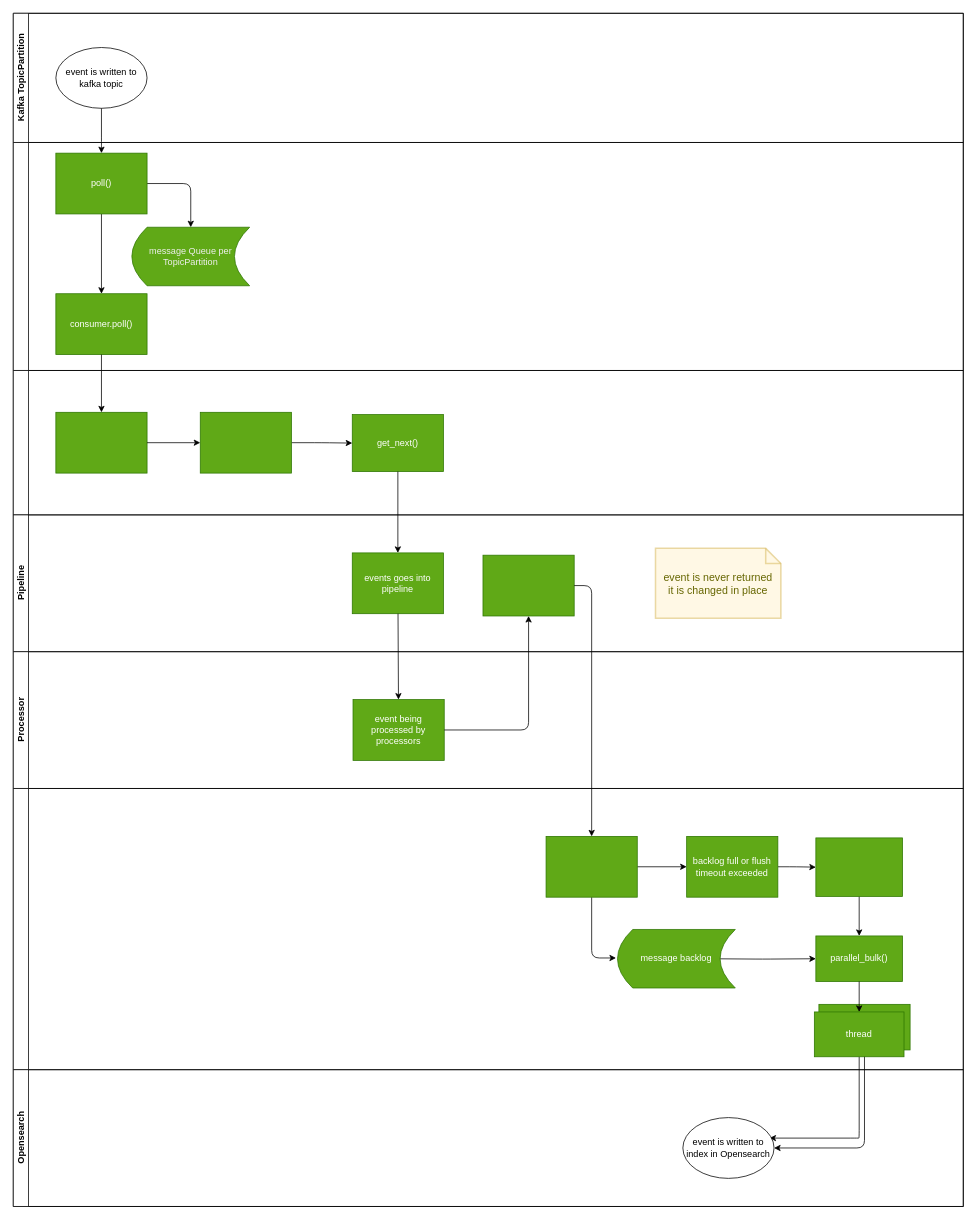
Image size: 977x1220. Some labels were removed from this diagram. The box of each missing label's shape, as (x1, y1, x2, y2) in pixels:
_get_event() parses raw event in json: (200, 412, 291, 473)
_get_raw_event() takes event from the topic: (55, 412, 147, 473)
ConfluentKafka Connector: (13, 370, 963, 515)
event given back to pipeline: (482, 554, 574, 616)
event is stored in message backlog: (545, 836, 637, 897)
librdkafka: (13, 142, 963, 370)
Output Connector: (13, 788, 963, 1070)
write_backlog(): (815, 837, 902, 896)
